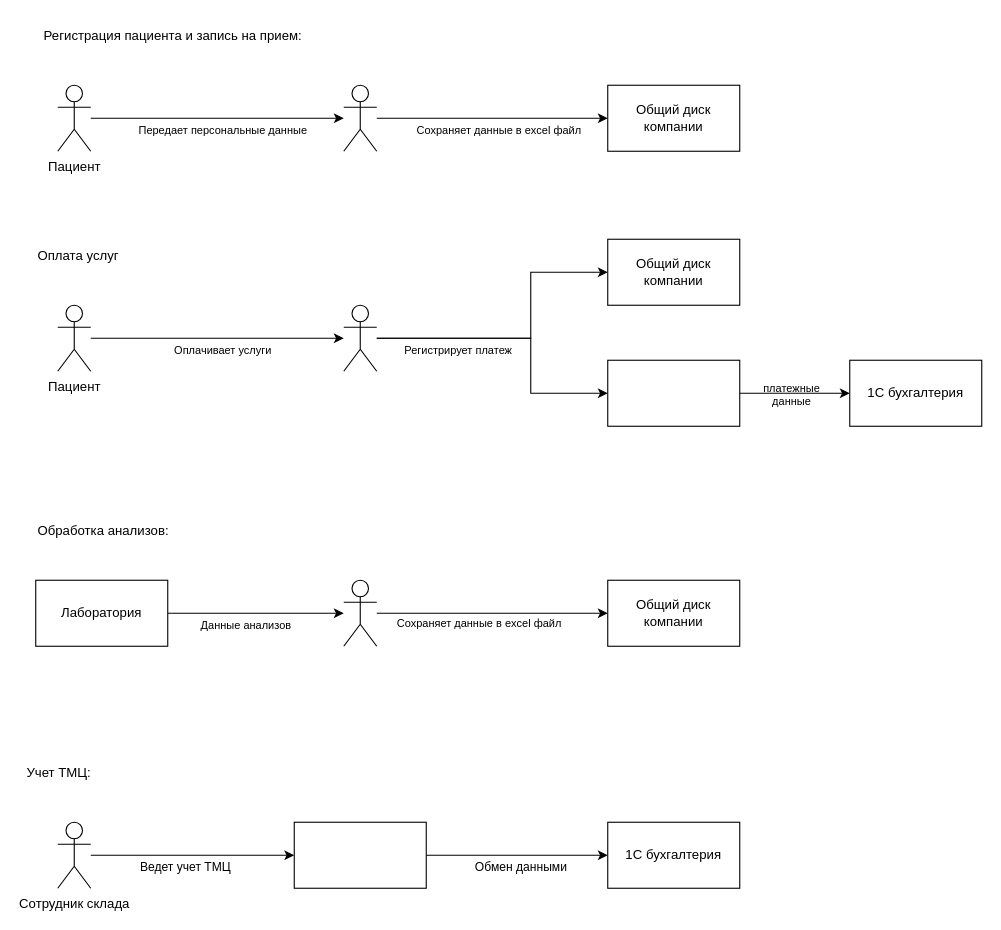
This 1001x930 diagram has some shape labels left out. Here are the shapes that lost their labels. From the top down, the centre of each, then its label:
At pixel 360 117: "Сотрудник ресепшена".
At pixel 360 337: "Кассир".
At pixel 673 392: "ККМ".
At pixel 360 612: "Сотрудник".
At pixel 359 854: "1С Торговля и склад".
